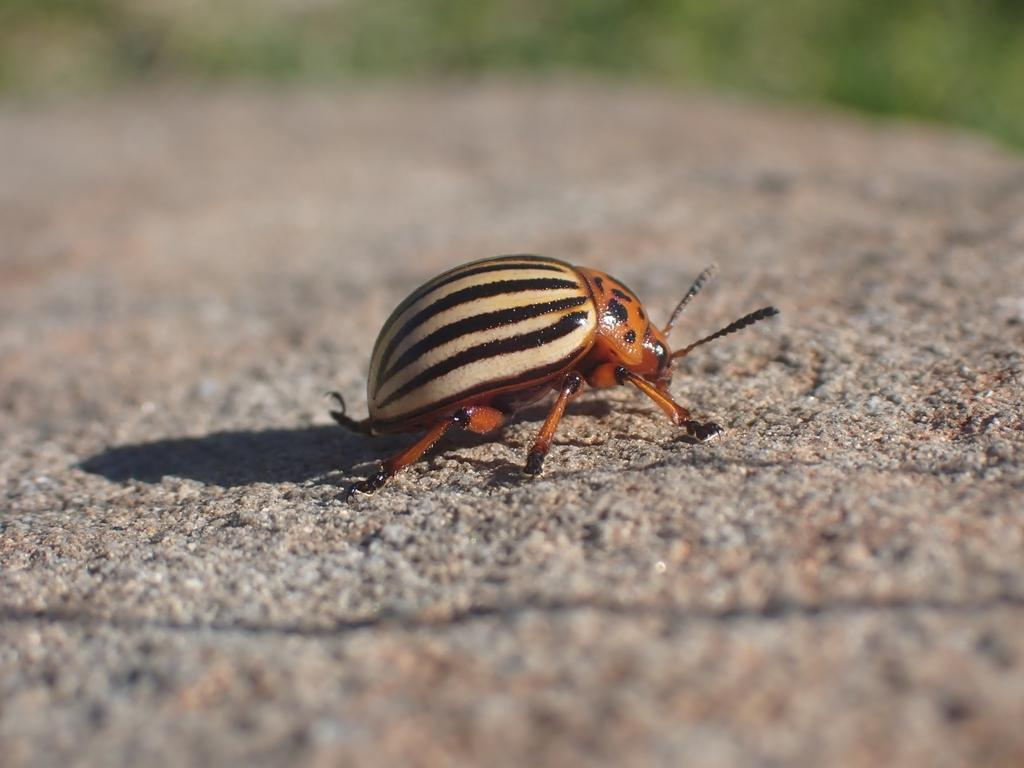potato_beetle: (250, 162, 826, 514)
